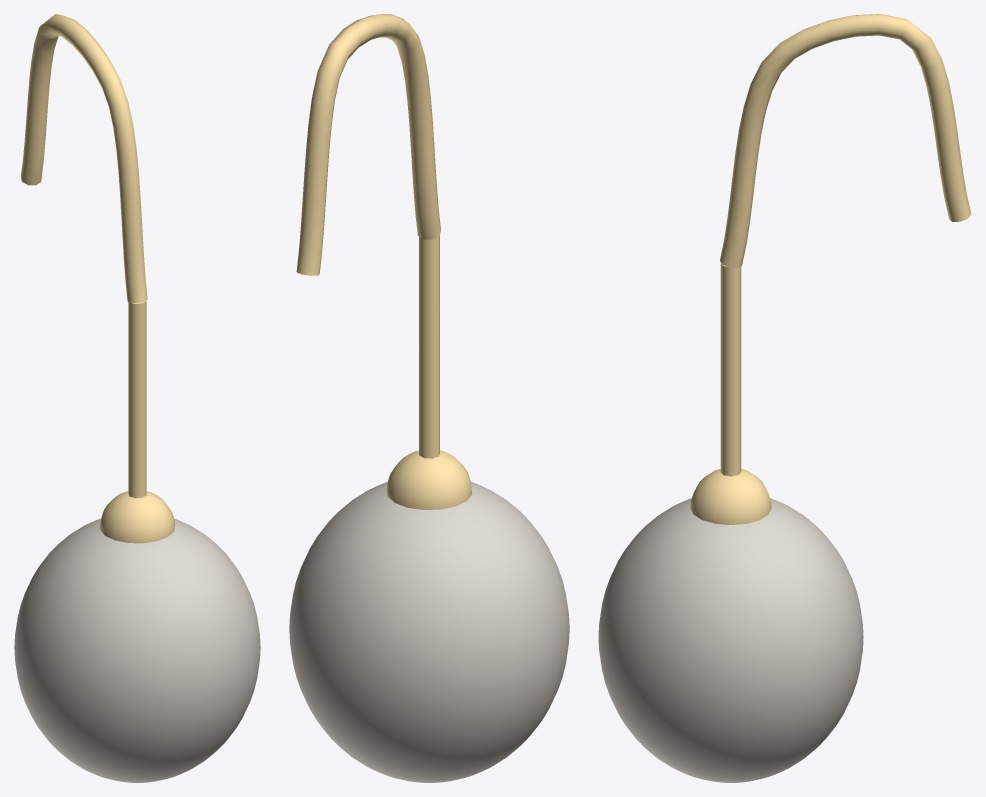
The model's file is earring-pearl.glb.
3 views of the same model, side by side, from view 1: azimuth 30°, elevation 25°; view 2: azimuth 150°, elevation 25°; view 3: azimuth 270°, elevation 25° (orthographic). The views are drawn at different scales.
Visible parts, largest first — view 1: pearl, hook, drop; view 2: pearl, hook, drop; view 3: pearl, hook, drop.
Part boxes in pixels (<box>): pearl: <box>14,518,260,782</box>; hook: <box>21,14,147,302</box>; drop: <box>100,300,174,543</box>; pearl: <box>289,482,569,782</box>; hook: <box>296,14,440,275</box>; drop: <box>386,236,472,509</box>; pearl: <box>598,498,863,782</box>; hook: <box>720,14,971,267</box>; drop: <box>690,263,771,524</box>.
Size of the model in its own units: 0.0104 by 0.0328 by 0.0146.
